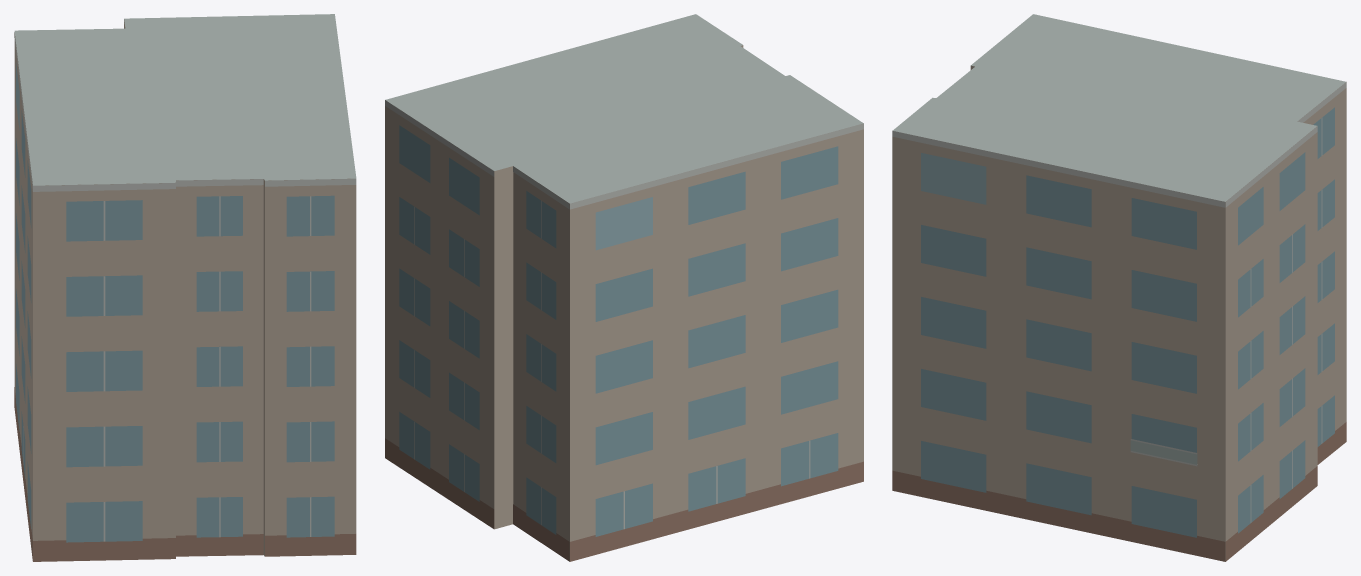
The model's file is survey-upis-32927517.glb.
3 renders of one model, left to right at view 1: azimuth 30°, elevation 25°; view 2: azimuth 150°, elevation 25°; view 3: azimuth 270°, elevation 25°, orthographic. The views are drawn at different scales.
Visible parts, largest first — view 1: survey-upis-32927517.tmp; view 2: survey-upis-32927517.tmp; view 3: survey-upis-32927517.tmp.
Part boxes in pixels (<box>): survey-upis-32927517.tmp: <box>14,14,356,561</box>; survey-upis-32927517.tmp: <box>385,14,863,561</box>; survey-upis-32927517.tmp: <box>892,14,1346,561</box>.
Size of the model in its own units: 16.46 by 14.7 by 16.81.
